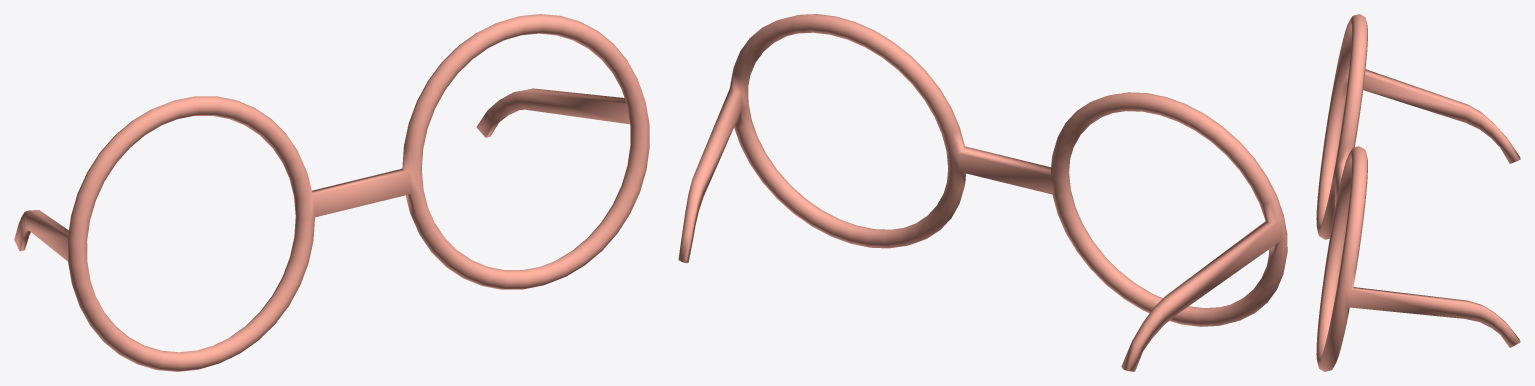
File: Glasses_HAT.fbx
3 renders of one model, left to right at view 1: azimuth 30°, elevation 25°; view 2: azimuth 150°, elevation 25°; view 3: azimuth 270°, elevation 25°, orthographic. The views are drawn at different scales.
Parts seen in each view (by area): view 1: glasses_hat; view 2: glasses_hat; view 3: glasses_hat.
Boxes of the visible parts, x1,y1,x2,y2 form: glasses_hat: [14, 14, 649, 371]; glasses_hat: [678, 14, 1287, 371]; glasses_hat: [1316, 14, 1520, 371].
Bounding box in the file's own units: 62.86 × 26.14 × 23.67.
